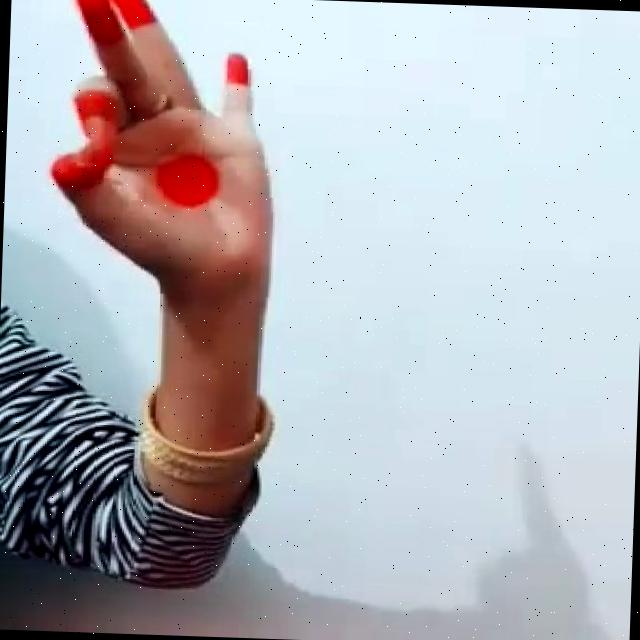Hamsasya: (30, 0, 311, 270)
bangle: (127, 357, 286, 512)
